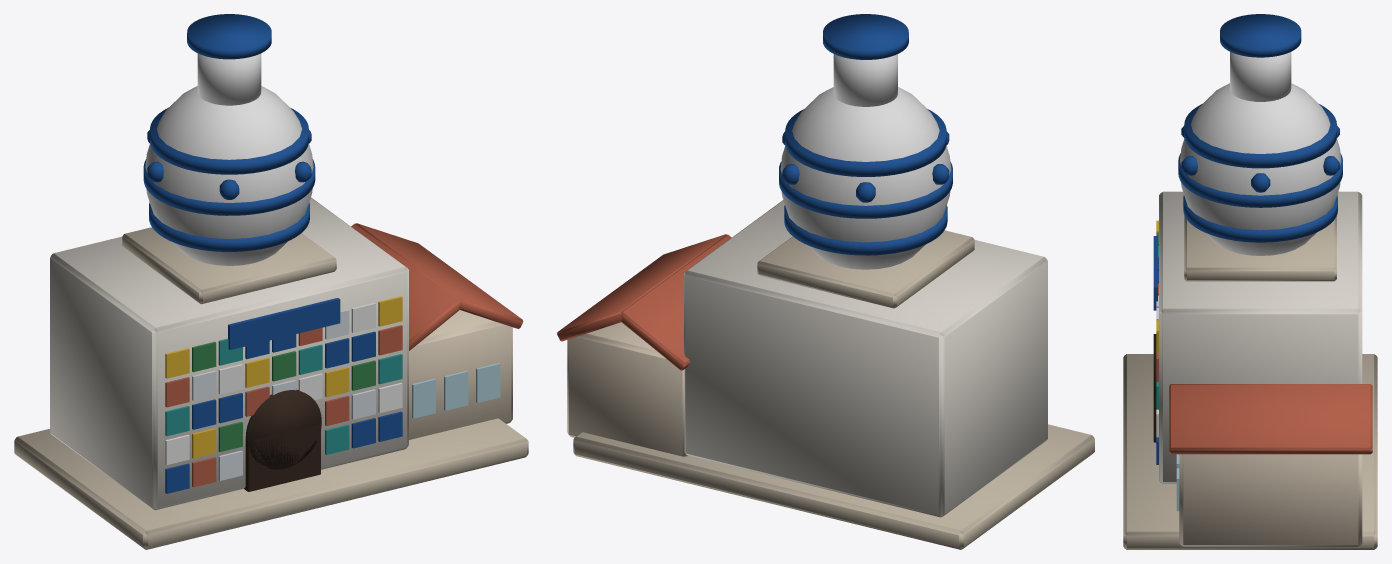
3 views of the same model, side by side, from view 1: azimuth 30°, elevation 25°; view 2: azimuth 150°, elevation 25°; view 3: azimuth 270°, elevation 25° (orthographic). The views are drawn at different scales.
Parts seen in each view (by area): view 1: lm_12; view 2: lm_12; view 3: lm_12.
Part boxes in pixels (x1,y1,x2,y2): lm_12: [14, 14, 528, 549]; lm_12: [557, 14, 1094, 549]; lm_12: [1123, 14, 1377, 549].
Bounding box in the file's own units: 0.8783 × 0.895 × 0.5.
